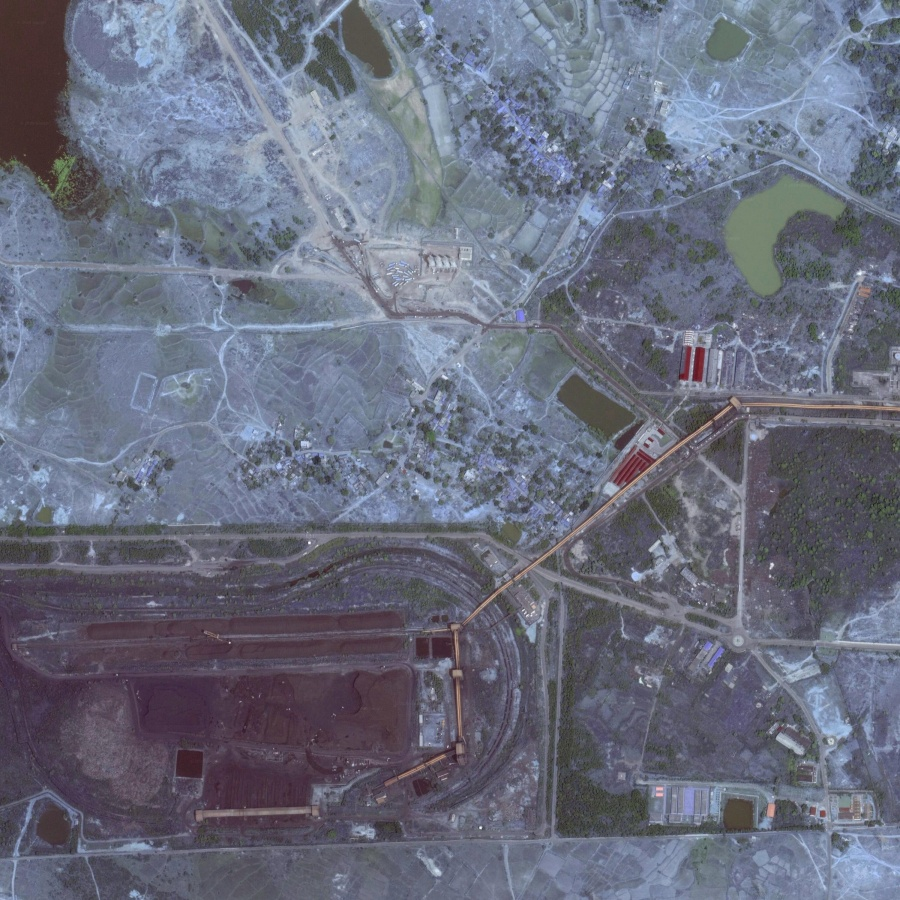PowerPlant: (11, 588, 522, 844)
